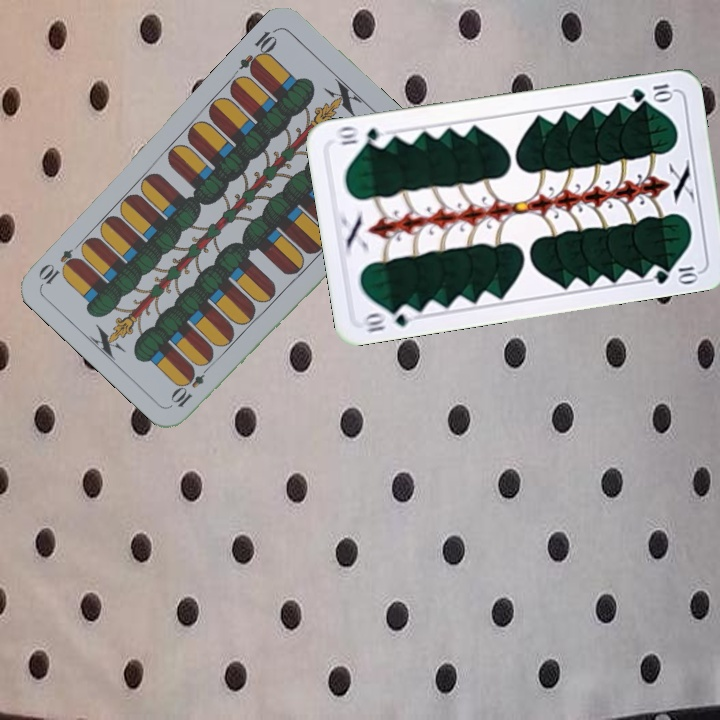E10: (235, 24, 281, 78), (168, 359, 214, 410)
G10: (358, 301, 417, 335), (626, 79, 676, 105)
